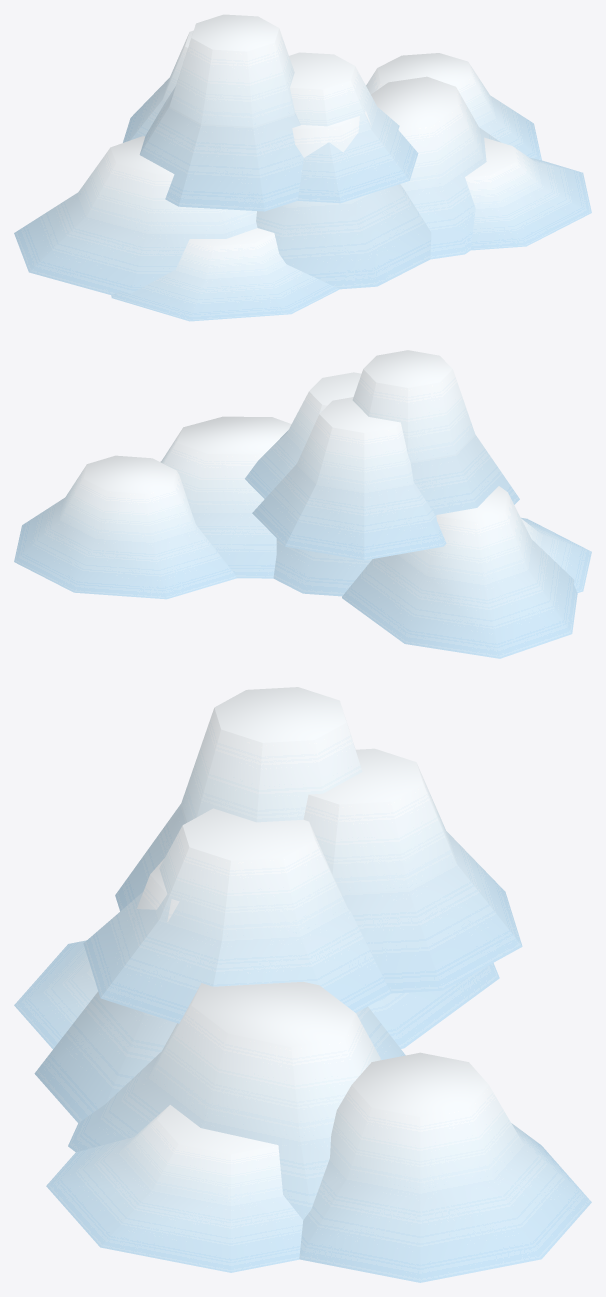
File: cloud-a.glb
3 views of the same model, one above another, from view 1: azimuth 30°, elevation 25°; view 2: azimuth 150°, elevation 25°; view 3: azimuth 270°, elevation 25° (orthographic). The views are drawn at different scales.
Visible parts, largest first — view 1: cloud-a; view 2: cloud-a; view 3: cloud-a.
Part boxes in pixels (x1,y1,x2,y2): cloud-a: [14, 14, 591, 321]; cloud-a: [14, 350, 591, 658]; cloud-a: [14, 687, 591, 1282].
Bounding box in the file's own units: 8 × 3 × 5.
1 material, 1 textured.
